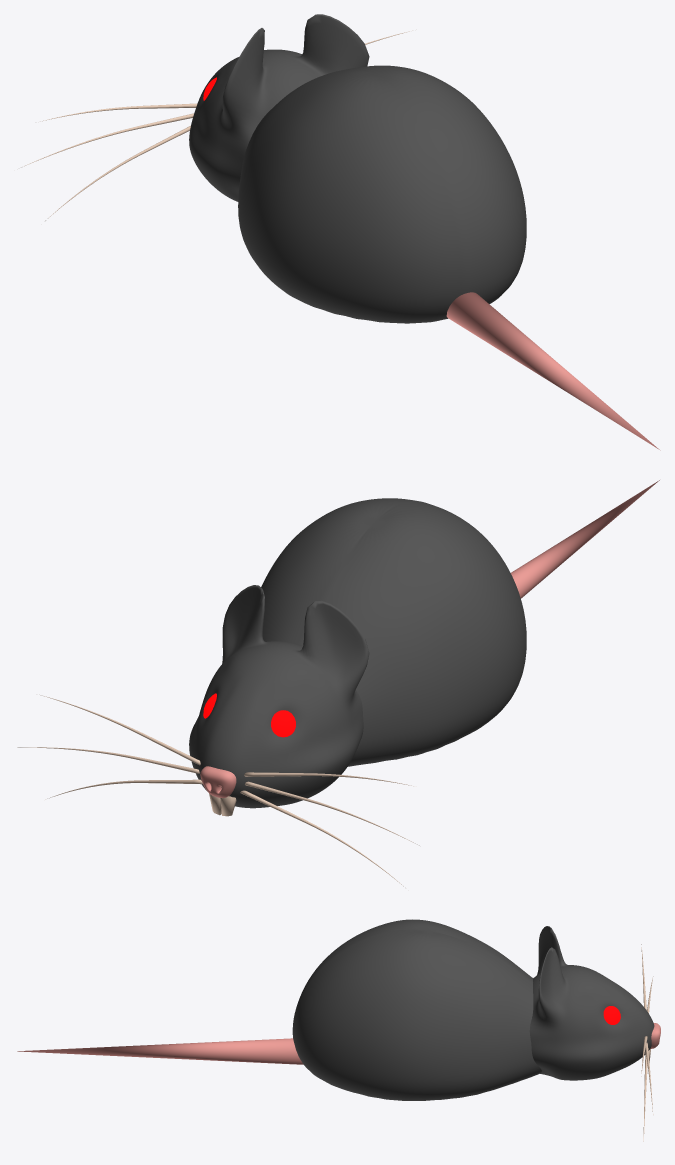
The model's file is Rat_Eugene.fbx.
The picture shows the model from 3 angles, top to bottom: view 1: azimuth 30°, elevation 25°; view 2: azimuth 150°, elevation 25°; view 3: azimuth 270°, elevation 25°; orthographic projection. The views are drawn at different scales.
Parts seen in each view (by area): view 1: Sphere; view 2: Sphere; view 3: Sphere.
Boxes of the visible parts, bbox=[...] form: Sphere: bbox=[21, 14, 660, 450]; Sphere: bbox=[17, 480, 659, 886]; Sphere: bbox=[17, 919, 660, 1141].
Bounding box in the file's own units: 343 × 174 × 652.
